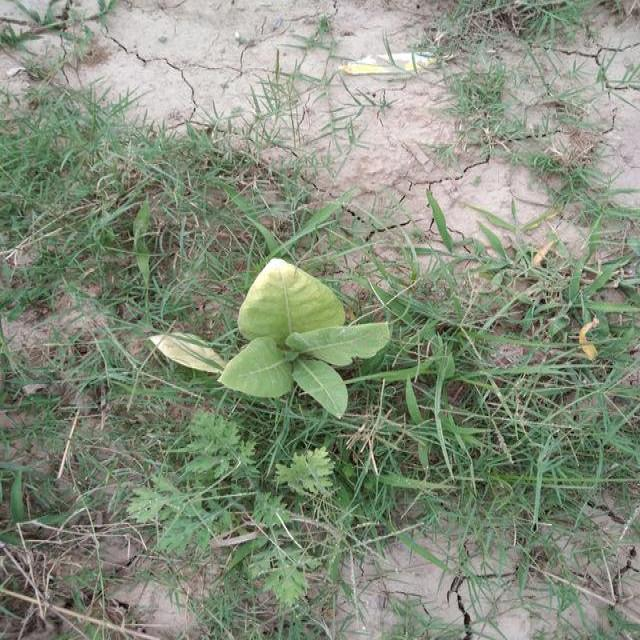crop: (136, 256, 410, 429)
